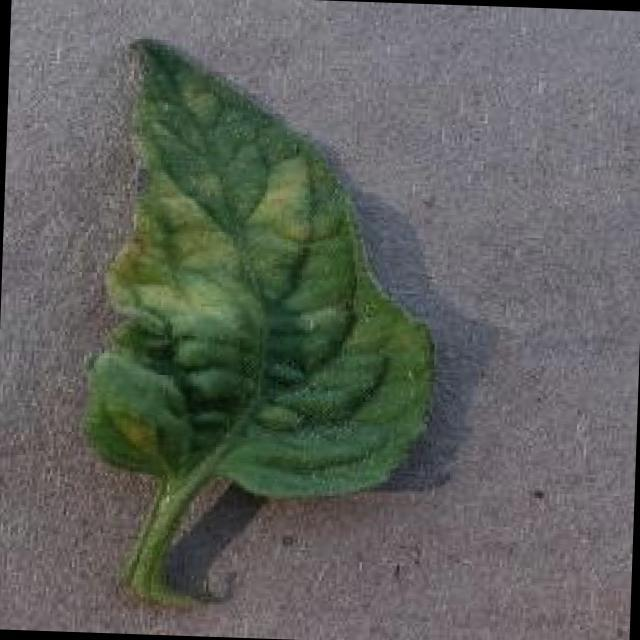Tomato mold leaf: (77, 34, 447, 508)
